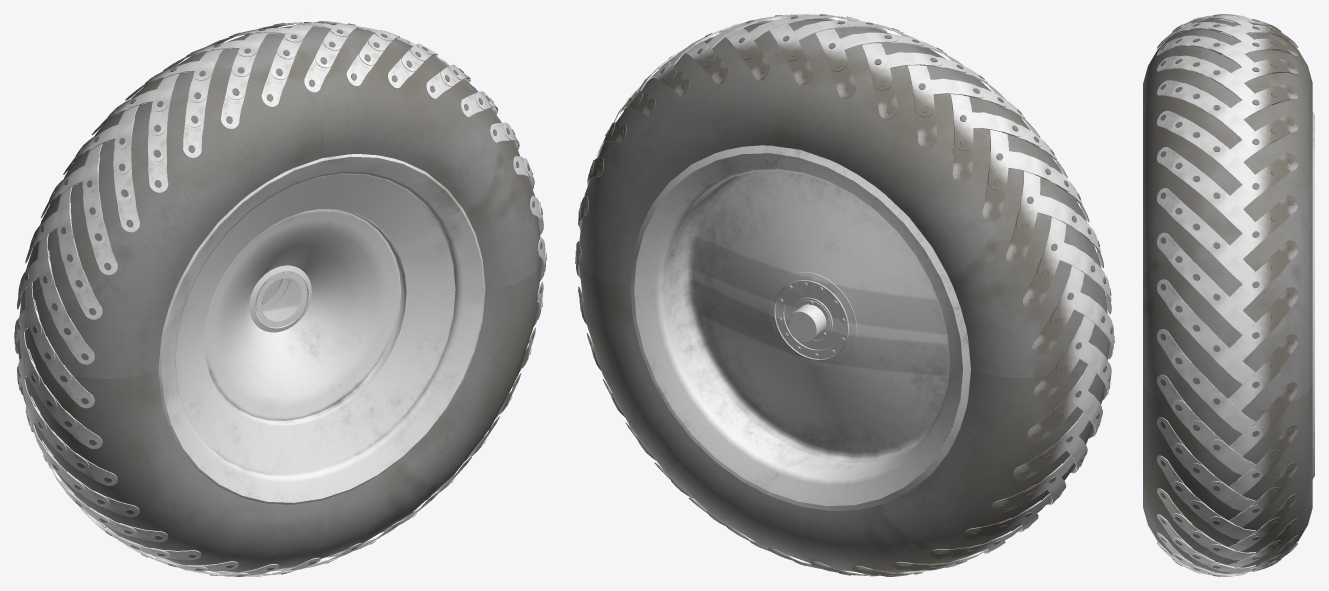
Rendered from wheel_left.dae.
The picture shows the model from 3 angles, left to right: view 1: azimuth 30°, elevation 25°; view 2: azimuth 150°, elevation 25°; view 3: azimuth 270°, elevation 25°; orthographic projection. The views are drawn at different scales.
Visible parts, largest first — view 1: ApolloRoverRig__1.001_2; view 2: ApolloRoverRig__1.001_2; view 3: ApolloRoverRig__1.001_2.
Part boxes in pixels (bbox=[...]): ApolloRoverRig__1.001_2: bbox=[14, 21, 546, 576]; ApolloRoverRig__1.001_2: bbox=[575, 14, 1114, 576]; ApolloRoverRig__1.001_2: bbox=[1143, 14, 1314, 576].
Size of the model in its own units: 0.7163 by 0.2184 by 0.7163.
Materials: 1 (1 with a texture image).
